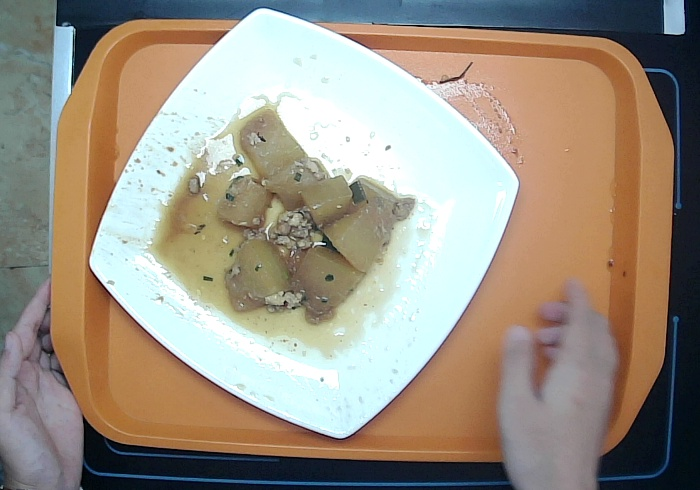ZNLD-Bai_Fang_Pan: (86, 6, 520, 443)
